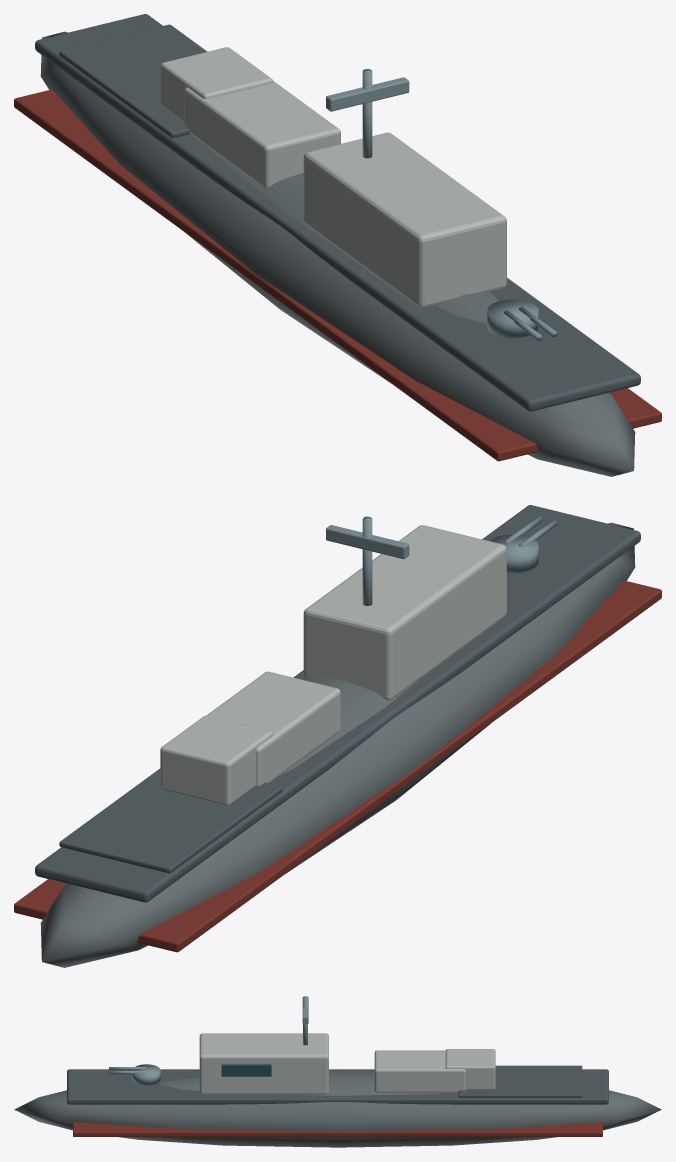
The model's file is destroyer-lod3.glb.
3 views of the same model, one above another, from view 1: azimuth 30°, elevation 25°; view 2: azimuth 150°, elevation 25°; view 3: azimuth 270°, elevation 25° (orthographic). The views are drawn at different scales.
Visible parts, largest first — view 1: destroyer-hull, forward-superstructure, destroyer-deck, destroyer-waterline, aft-superstructure, aft-flight-deck, stern-hangar, forward-gun-turret, main-radar-array, main-radar-mast; view 2: destroyer-hull, forward-superstructure, destroyer-deck, destroyer-waterline, aft-flight-deck, aft-superstructure, stern-hangar, main-radar-array, forward-gun-turret, main-radar-mast; view 3: destroyer-hull, destroyer-deck, forward-superstructure, destroyer-waterline, aft-superstructure, aft-flight-deck, stern-hangar, bridge-window-band, forward-gun-turret.
Boxes of the visible parts, left/top/right/bottom form: destroyer-hull: left=40, top=31, right=635, bottom=476; forward-superstructure: left=303, top=132, right=506, bottom=308; destroyer-deck: left=35, top=14, right=640, bottom=411; destroyer-waterline: left=14, top=89, right=661, bottom=461; aft-superstructure: left=184, top=81, right=340, bottom=187; aft-flight-deck: left=59, top=24, right=207, bottom=138; stern-hangar: left=160, top=47, right=273, bottom=121; forward-gun-turret: left=487, top=299, right=538, bottom=338; main-radar-array: left=326, top=77, right=409, bottom=111; main-radar-mast: left=362, top=69, right=372, bottom=158; destroyer-hull: left=40, top=522, right=635, bottom=967; forward-superstructure: left=303, top=525, right=506, bottom=700; destroyer-deck: left=35, top=505, right=640, bottom=902; destroyer-waterline: left=14, top=580, right=661, bottom=952; aft-flight-deck: left=59, top=768, right=282, bottom=873; aft-superstructure: left=206, top=671, right=340, bottom=785; stern-hangar: left=160, top=715, right=273, bottom=804; main-radar-array: left=326, top=525, right=409, bottom=559; forward-gun-turret: left=489, top=534, right=538, bottom=572; main-radar-mast: left=362, top=516, right=372, bottom=605; destroyer-hull: left=14, top=1071, right=661, bottom=1147; destroyer-deck: left=67, top=1069, right=608, bottom=1104; forward-superstructure: left=199, top=1033, right=328, bottom=1094; destroyer-waterline: left=73, top=1122, right=602, bottom=1136; aft-superstructure: left=374, top=1050, right=465, bottom=1092; aft-flight-deck: left=458, top=1065, right=582, bottom=1097; stern-hangar: left=445, top=1049, right=495, bottom=1089; bridge-window-band: left=221, top=1064, right=271, bottom=1076; forward-gun-turret: left=132, top=1064, right=160, bottom=1085.
Bounding box in the file's own units: 3.54 × 5.4 × 22.
